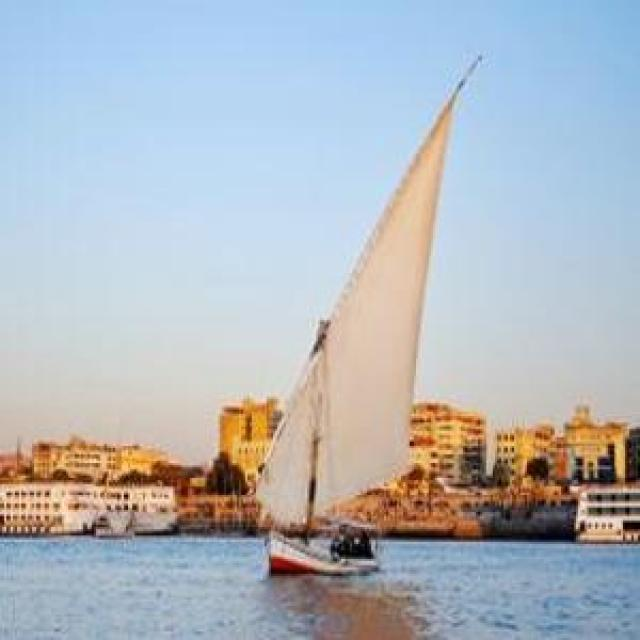sailboat: (251, 56, 480, 580)
